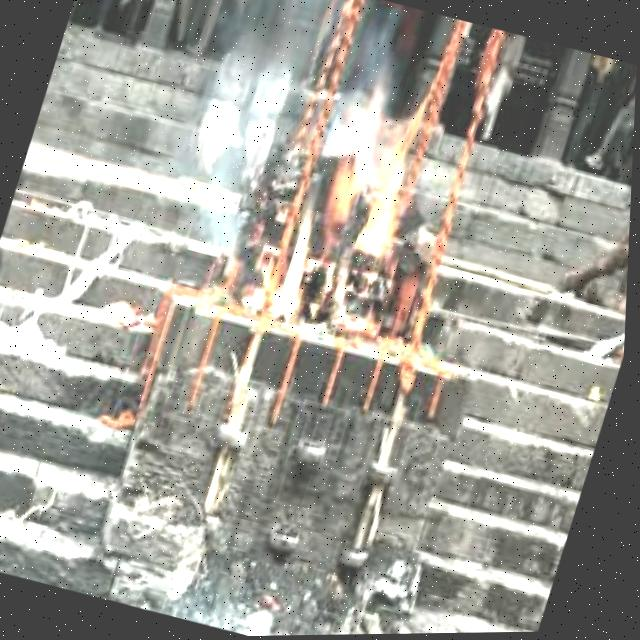Fire: (251, 63, 439, 342)
